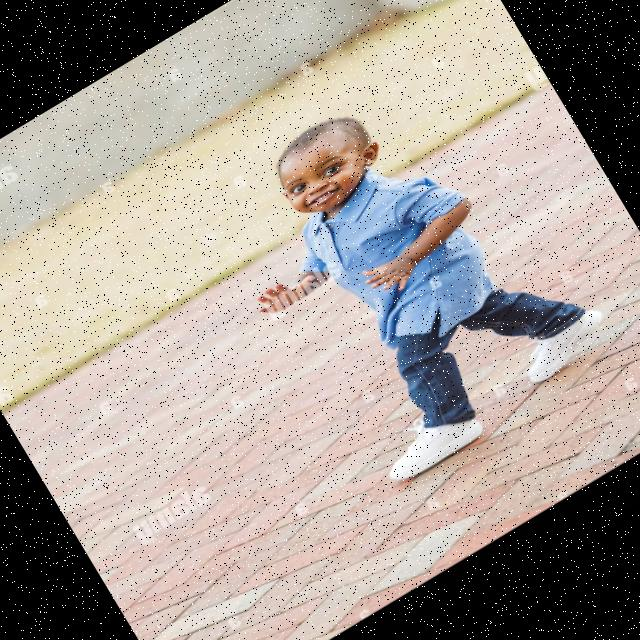Person: (195, 46, 624, 500)
